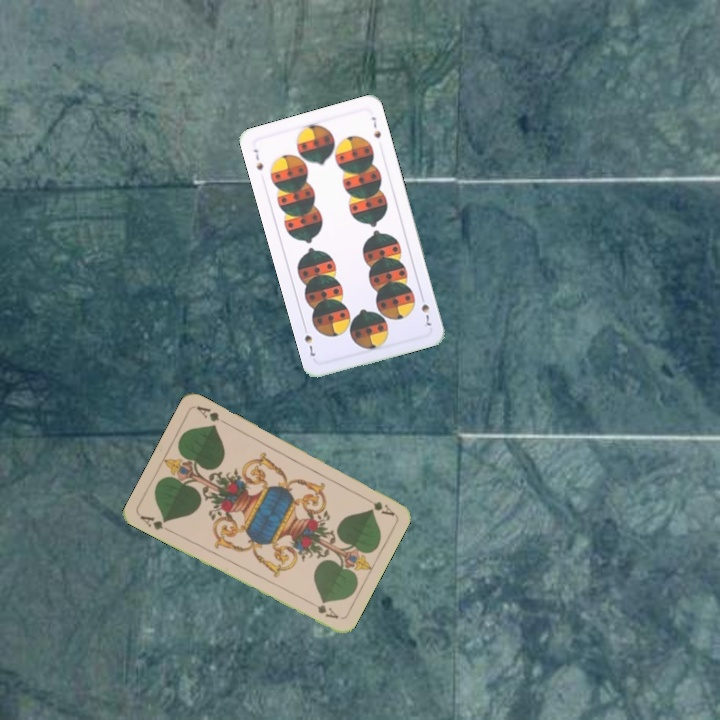GA: (359, 493, 397, 518), (136, 511, 174, 535)
S7: (417, 290, 433, 329), (249, 145, 266, 174)
